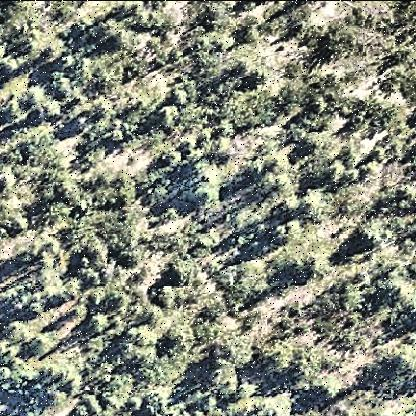tree-top: (78, 169, 141, 245), (37, 365, 83, 409), (81, 47, 133, 81), (258, 338, 298, 379), (292, 347, 333, 387), (207, 355, 242, 396), (273, 248, 319, 278), (293, 248, 333, 282), (252, 392, 297, 416), (320, 25, 352, 57), (372, 263, 407, 292), (32, 92, 64, 122), (90, 89, 118, 121), (393, 341, 416, 379), (94, 19, 124, 47), (301, 86, 331, 114), (126, 320, 158, 346), (356, 221, 386, 248), (154, 99, 181, 129), (205, 138, 235, 165), (321, 157, 349, 185), (280, 119, 314, 142), (269, 219, 299, 245), (192, 183, 218, 213), (167, 259, 193, 287), (232, 51, 258, 79), (391, 179, 413, 211), (29, 330, 56, 356), (128, 343, 154, 370), (86, 284, 111, 311), (195, 231, 219, 259), (155, 284, 180, 310), (68, 14, 95, 38), (53, 174, 78, 199), (162, 325, 188, 349), (34, 234, 60, 258), (6, 319, 28, 344), (87, 312, 110, 335), (42, 41, 65, 63), (162, 146, 184, 167), (247, 157, 269, 177), (172, 85, 190, 106), (2, 54, 20, 74), (114, 1, 136, 15)
